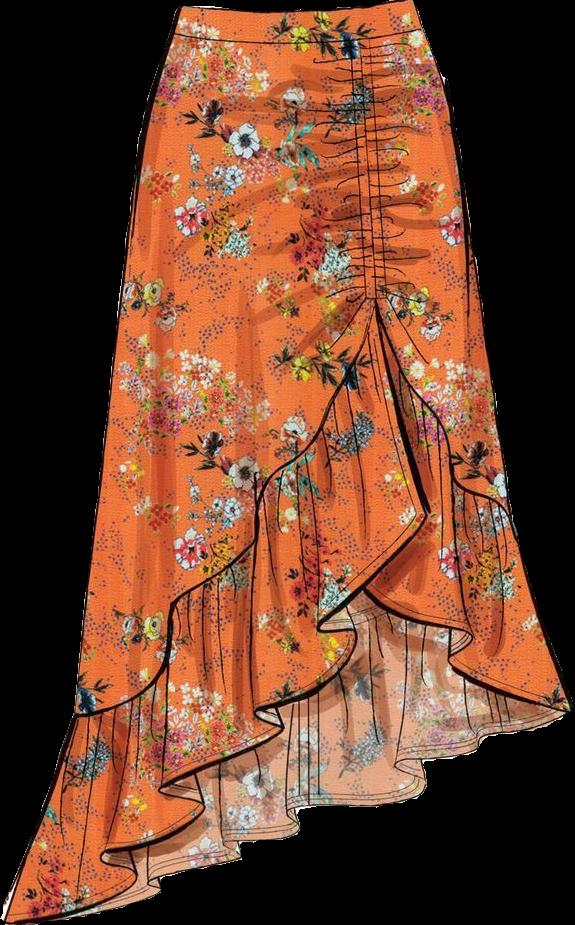Hemline: (0, 516, 428, 924), (354, 583, 573, 718)
Waistline: (72, 303, 381, 718), (371, 306, 512, 511), (165, 19, 426, 53), (177, 0, 414, 19)
